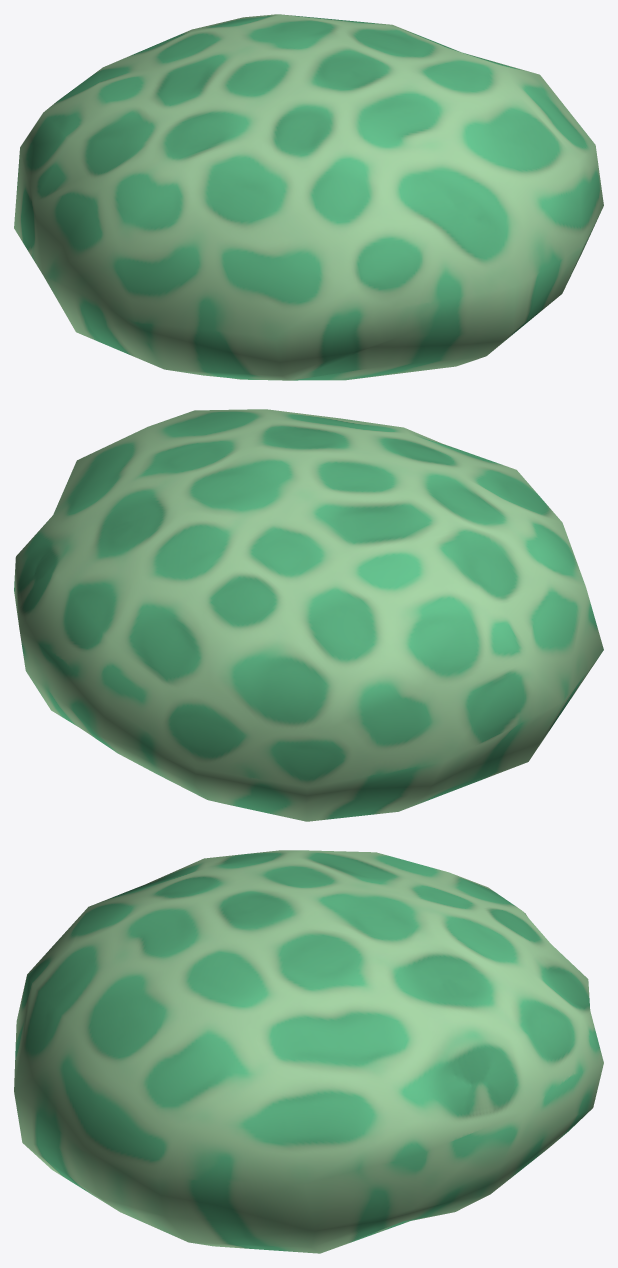
The model's file is coral12_FBX_still.fbx.
3 views of the same model, one above another, from view 1: azimuth 30°, elevation 25°; view 2: azimuth 150°, elevation 25°; view 3: azimuth 270°, elevation 25° (orthographic). The views are drawn at different scales.
Visible parts, largest first — view 1: coral12_gameasset; view 2: coral12_gameasset; view 3: coral12_gameasset.
Part boxes in pixels (<box>): coral12_gameasset: <box>14,14,603,380</box>; coral12_gameasset: <box>14,409,603,821</box>; coral12_gameasset: <box>14,850,603,1253</box>.
Size of the model in its own units: 1.34 by 0.7548 by 1.28.
Materials: 1 (1 with a texture image).
